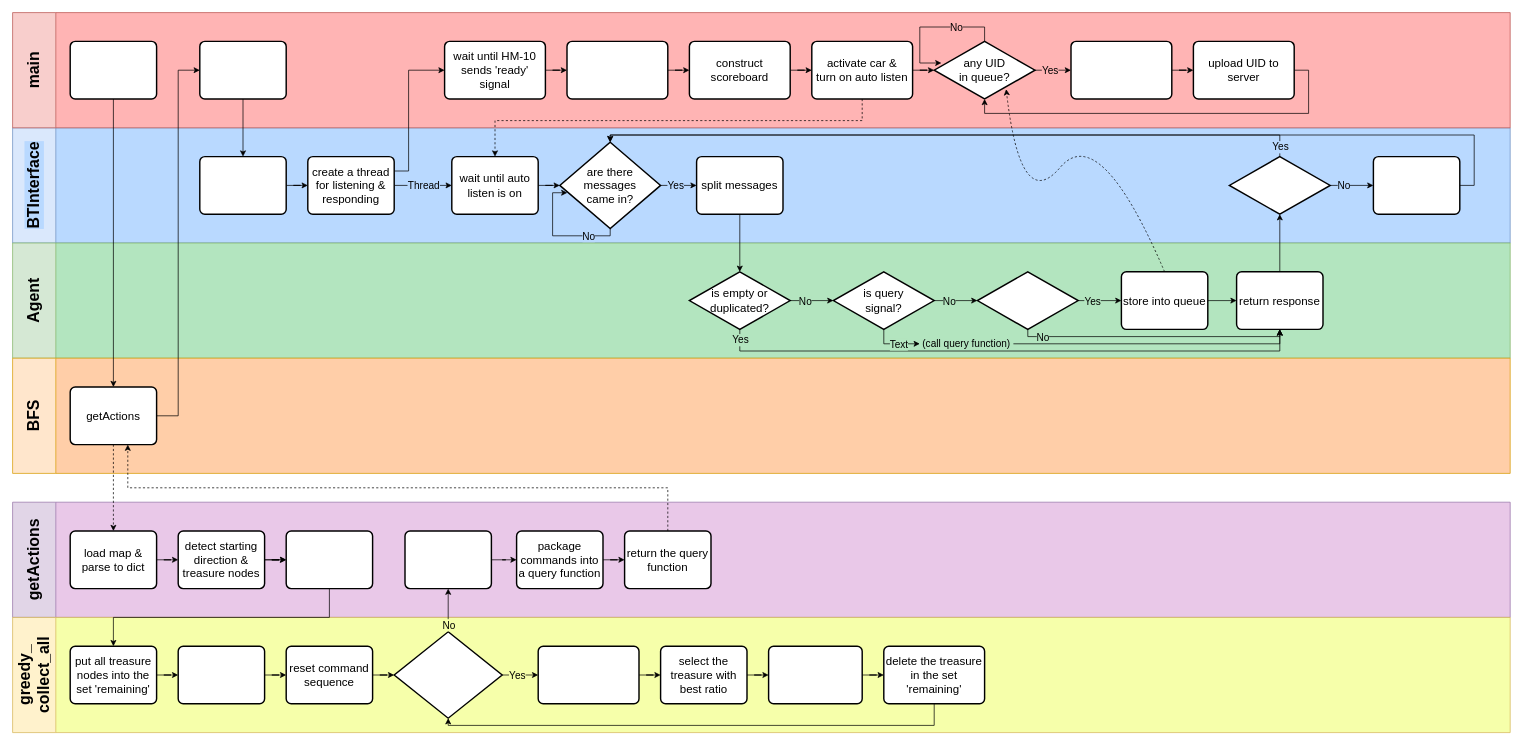
Some shapes in this 1523 by 745 pixel diagram are drawn without their labels. Each missing label, with the centre of its shape:
"are there still unvisited treasures?" belongs at pixel 448 675.
"compute treasure scores" belongs at pixel 329 559.
"compute {score/path length} of all remaining treasures" belongs at pixel 588 674.
"connect to HM-10" belongs at pixel 243 185.
"construct BTInterface" belongs at pixel 243 69.
"filter commands" belongs at pixel 448 559.
"get UID from queue" belongs at pixel 1121 69.
"initialize current node & direction" belongs at pixel 221 674.
"is response empty?" belongs at pixel 1279 185.
"is RFID signal?" belongs at pixel 1027 300.
"send response to HM-10" belongs at pixel 1416 185.
"start" belongs at pixel 113 69.
"wait until 'ENTER' is pressed" belongs at pixel 617 69.
"walk to the target & update command sequence" belongs at pixel 815 674.
